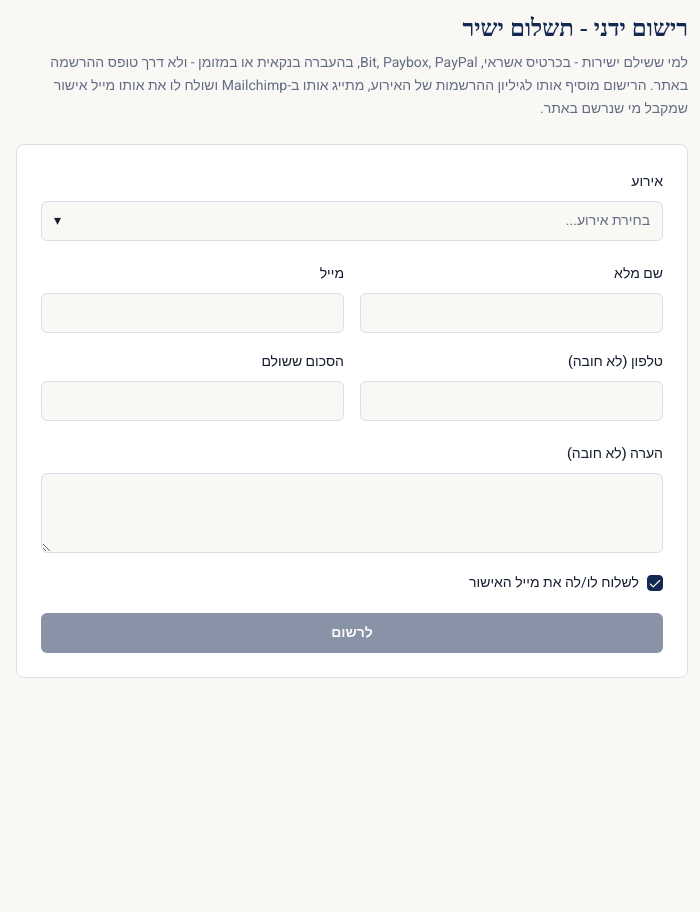
AdminManualRegistration › event picker: closed until opened, current events only, past ones on request, closes on choice
Step 1. Click the button "בחירת אירוע... ▾" → (608, 221), box [41,201,663,241]
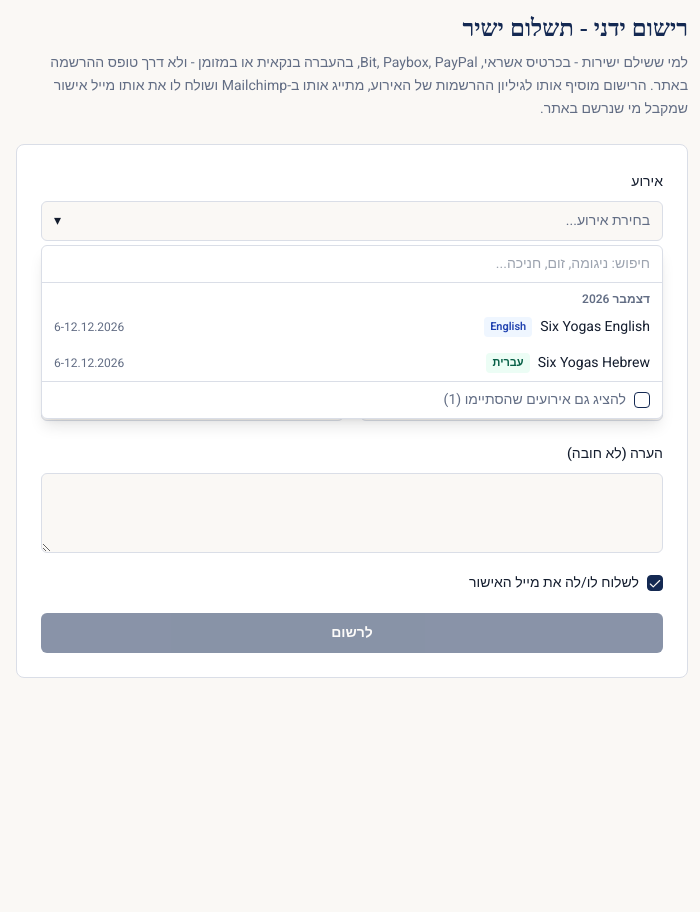
Expected: the text "Healing retreat (past)" is not shown
Result: the number of options is 2 at [42,309,662,345]; [42,345,662,381]
Step 2. Click the checkbox named "להציג גם אירועים שהסתיימו" next to "להציג גם אירועים שהסתיימו (" → (642, 400), box [634,392,650,408]
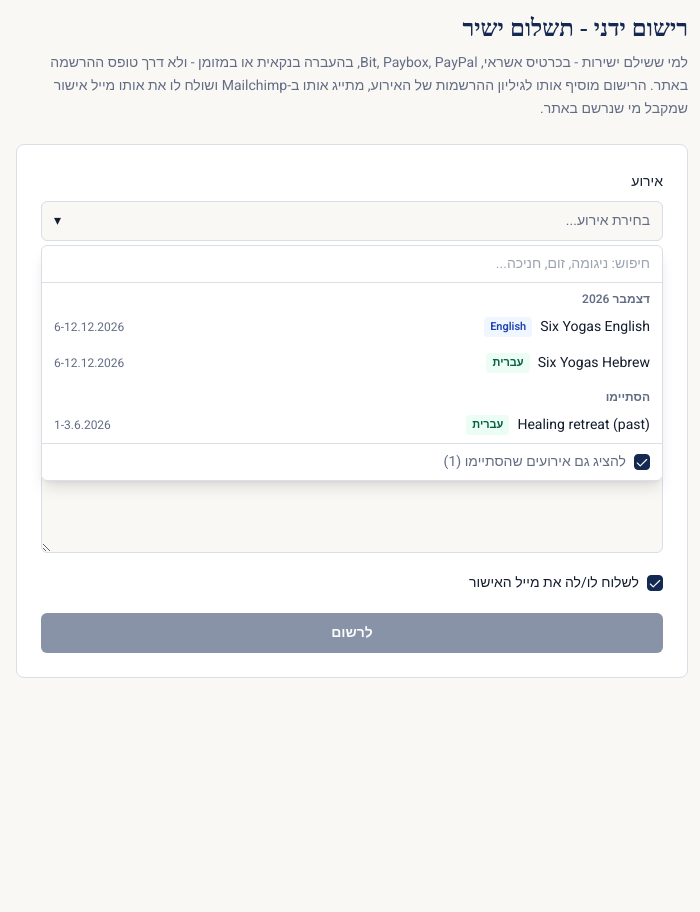
Result: the number of options is 3
Step 3. Click the option "Six Yogas Hebrew עברית 6-12.12.2026" → (594, 363), box [42,345,662,381]
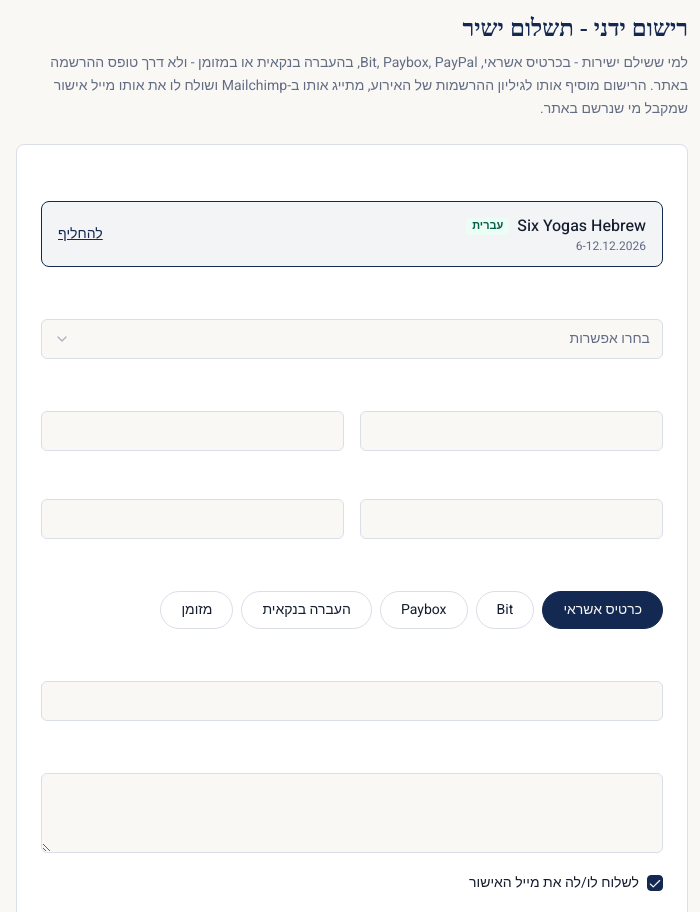
Result: the text "Six Yogas Hebrew" is shown at [517,214,646,238]
Result: the list is gone
Result: the button "להחליף" is shown at [58,224,103,244]
